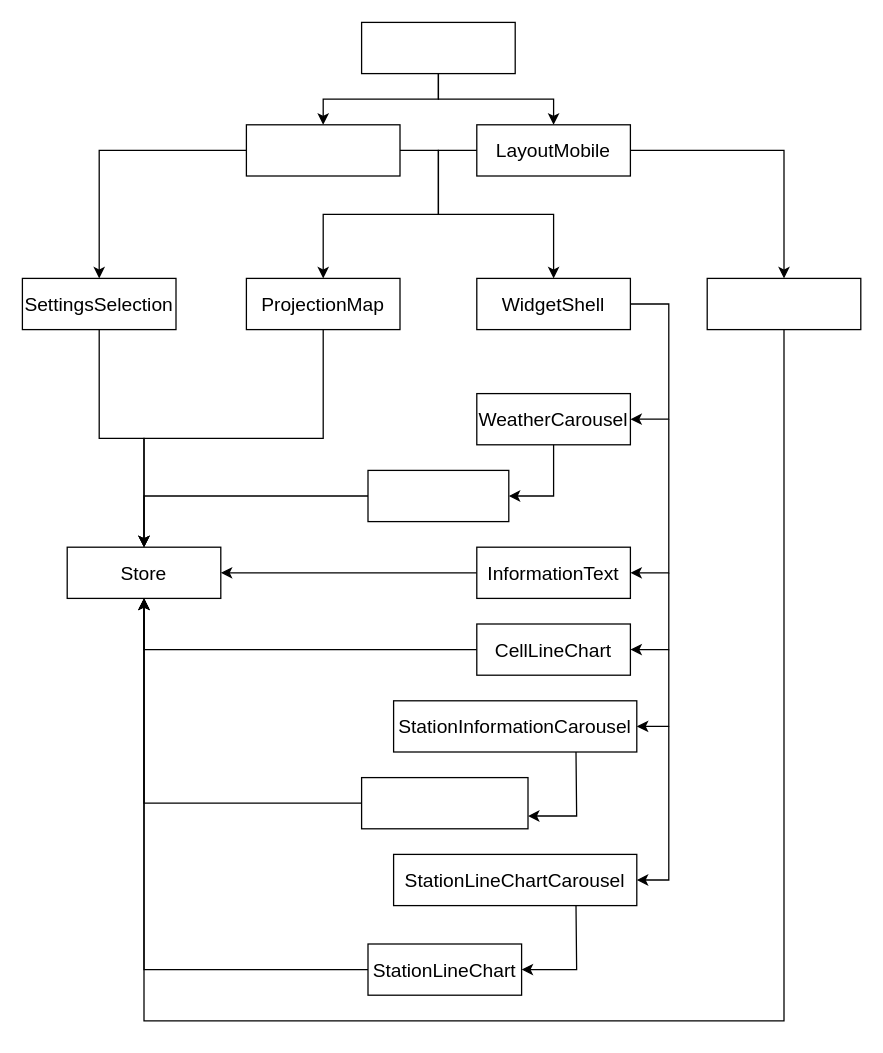
Some shapes in this 883 by 1053 pixel diagram are drawn without their labels. The shapes that lost their labels are listed below. From the top down, each one's box as (x1, y1, x2, y2) in pixels, then its label:
(360, 21, 515, 74): App
(245, 124, 400, 176): LayoutBrowser
(706, 277, 861, 330): SettingsMobile
(367, 469, 509, 522): WeatherLive
(360, 776, 528, 829): StationInformation
